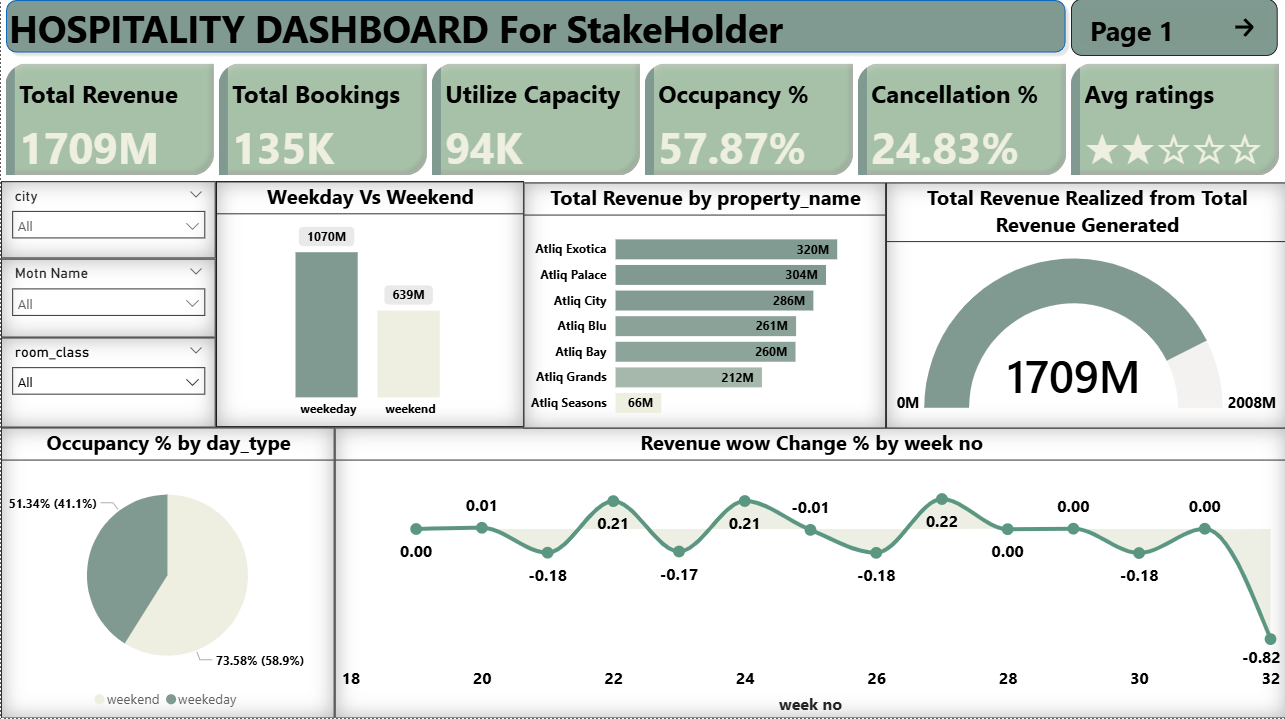

The dashboard page shown, as its layout file describes it:
{"tool":"powerbi","page":{"name":"Page 1","canvas":[1280,720],"ordinal":0},"visuals":[{"type":"pieChart","fields":{"Category":["dim_date.day_type"],"Y":["Measures Table.Occupancy %"]},"box":[0,430.4,332.1,289.8],"z":0},{"type":"columnChart","title":"Weekday Vs Weekend","fields":{"Y":["Measures Table.Total Revenue"],"Category":["dim_date.day_type"]},"box":[214,185.3,306,245.1],"z":1000},{"type":"shape","box":[0,0,1064.4,62.2],"z":2000},{"type":"cardVisual","fields":{"Data":["Measures Table.Total Revenue","Measures Table.Total Bookings","Measures Table.Utilize Capacity","Measures Table.Occupancy %","Measures Table.Cancellation %","Measures Table.Average of ratings_given star rating"]},"box":[0,62.9,1280,121.4],"z":3000},{"type":"actionButton","box":[1064.3,4.3,205.7,57.1],"z":4000},{"type":"lineChart","fields":{"Y":["Measures Table.Revenue wow Change %"],"Category":["dim_date.week no"]},"box":[332.6,430.3,947.7,289.7],"z":5000},{"type":"slicer","fields":{"Values":["dim_hotels.city"]},"box":[0,185.3,214,77.1],"z":6000},{"type":"slicer","fields":{"Values":["dim_date.Motn Name"]},"box":[0,262.5,214,78.4],"z":7000},{"type":"slicer","fields":{"Values":["dim_rooms.room_class"]},"box":[0,340.8,214,89.6],"z":8000},{"type":"clusteredBarChart","fields":{"Category":["dim_hotels.property_name"],"Y":["Measures Table.Total Revenue"]},"box":[520,186.6,360.7,245.1],"z":9000},{"type":"gauge","title":"Total Revenue Realized from Total Revenue Generated","fields":{"Y":["Measures Table.Total Revenue"],"MaxValue":["Measures Table.Total Revenue Generated"]},"box":[880.7,186.6,399.3,245.1],"z":10000}]}

Visuals, with their boxes in screenshot pixels (x1, y1, x2, y2), scaled from the page's 1280x720 canvas onto the 1285x719 screenshot:
pieChart - dim_date.day_type x Measures Table.Occupancy %: x1=0, y1=430, x2=333, y2=718
"Weekday Vs Weekend" columnChart: x1=215, y1=185, x2=522, y2=430
shape: x1=0, y1=0, x2=1069, y2=62
cardVisual - Measures Table.Total Revenue x Measures Table.Total Bookings: x1=0, y1=63, x2=1284, y2=184
actionButton: x1=1068, y1=4, x2=1275, y2=61
lineChart - Measures Table.Revenue wow Change % x dim_date.week no: x1=334, y1=430, x2=1284, y2=718
slicer - dim_hotels.city: x1=0, y1=185, x2=215, y2=262
slicer - dim_date.Motn Name: x1=0, y1=262, x2=215, y2=340
slicer - dim_rooms.room_class: x1=0, y1=340, x2=215, y2=430
clusteredBarChart - dim_hotels.property_name x Measures Table.Total Revenue: x1=522, y1=186, x2=884, y2=431
"Total Revenue Realized from Total Revenue Generated" gauge: x1=884, y1=186, x2=1284, y2=431
